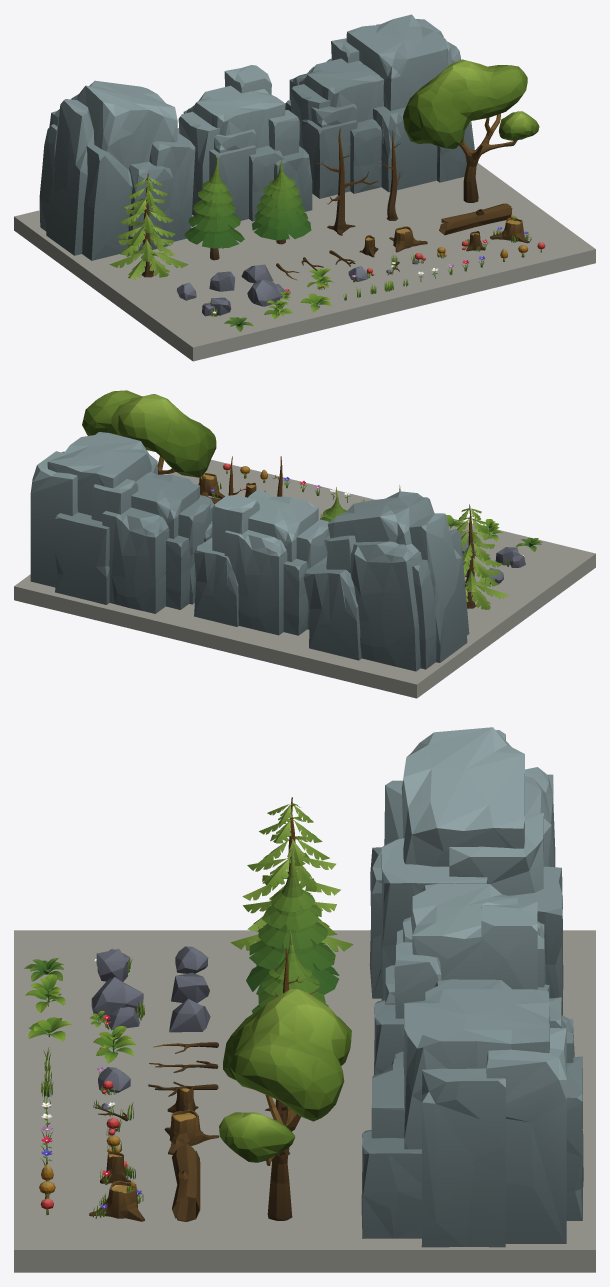
File: NatureGradientPack.fbx
3 renders of one model, top to bottom at view 1: azimuth 30°, elevation 25°; view 2: azimuth 150°, elevation 25°; view 3: azimuth 270°, elevation 25°, orthographic. The views are drawn at different scales.
Parts seen in each view (by area): view 1: BG_Cube, BigRock_03, BigRock_02, BigRock_01, Tree_05, Tree_06, Tree_01, Tree_02, Log_01, Tree_03, Model_02, Model_09 (+3 smaller); view 2: BigRock_02, BigRock_03, BG_Cube, BigRock_01, Tree_05, Tree_06, Model_01, Model_09; view 3: BG_Cube, BigRock_02, BigRock_03, BigRock_01, Tree_05, Tree_01, Tree_06, Model_02, Log_01, Tree_02, Model_09, Stump_01 (+8 smaller).
Part boxes in pixels (x1=…): BG_Cube: x1=14, y1=163, x2=595, y2=361; BigRock_03: x1=39, y1=80, x2=195, y2=260; BigRock_02: x1=285, y1=14, x2=474, y2=198; BigRock_01: x1=177, y1=65, x2=312, y2=221; Tree_05: x1=403, y1=59, x2=539, y2=202; Tree_06: x1=109, y1=173, x2=188, y2=279; Tree_01: x1=184, y1=153, x2=244, y2=260; Tree_02: x1=252, y1=156, x2=311, y2=244; Log_01: x1=439, y1=203, x2=512, y2=235; Tree_03: x1=309, y1=127, x2=378, y2=235; Model_02: x1=247, y1=279, x2=290, y2=306; Model_09: x1=490, y1=214, x2=531, y2=243; BigRock_02: x1=30, y1=432, x2=214, y2=613; BigRock_03: x1=303, y1=491, x2=469, y2=671; BG_Cube: x1=14, y1=459, x2=595, y2=698; BigRock_01: x1=194, y1=489, x2=329, y2=635; Tree_05: x1=82, y1=390, x2=216, y2=477; Tree_06: x1=457, y1=504, x2=508, y2=609; Model_01: x1=495, y1=547, x2=525, y2=567; Model_09: x1=198, y1=473, x2=224, y2=498; BG_Cube: x1=14, y1=930, x2=595, y2=1272; BigRock_02: x1=361, y1=979, x2=583, y2=1247; BigRock_03: x1=369, y1=727, x2=563, y2=1015; BigRock_01: x1=374, y1=883, x2=549, y2=1075; Tree_05: x1=219, y1=989, x2=351, y2=1220; Tree_01: x1=246, y1=848, x2=339, y2=995; Tree_06: x1=230, y1=797, x2=353, y2=965; Model_02: x1=90, y1=977, x2=144, y2=1030; Log_01: x1=172, y1=1144, x2=200, y2=1221; Tree_02: x1=252, y1=928, x2=328, y2=1013; Model_09: x1=89, y1=1180, x2=144, y2=1221; Stump_01: x1=164, y1=1109, x2=219, y2=1154.
Size of the model in its own units: 19.04 by 6.82 by 13.98.
